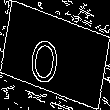O_N: (37, 25, 73, 85)
